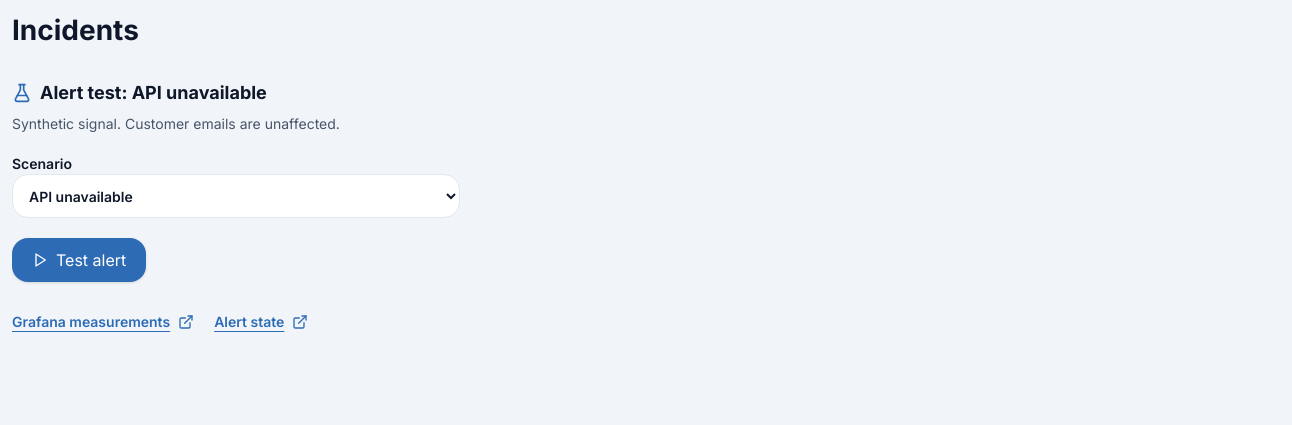
Test: admin operational exercises › translates the test controls into English
What coordinates should you click on to do the following:
click the button "Test alert"
I would click on:
 (79, 260)
Its box is [12,238,146,282].
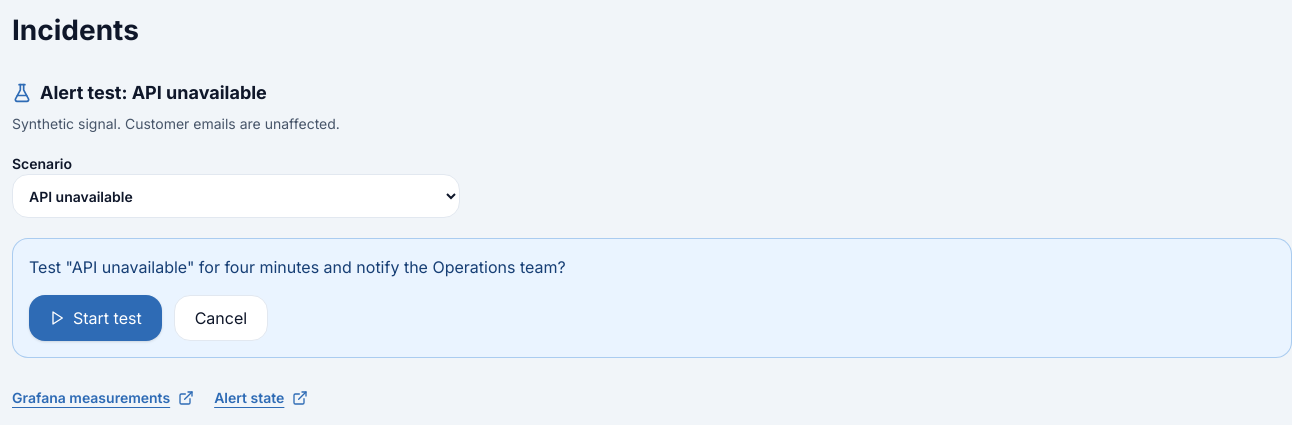
Check: the button "Start test" is shown, box [29,295,162,341]
Check: the button "Cancel" is shown, box [174,295,268,341]
